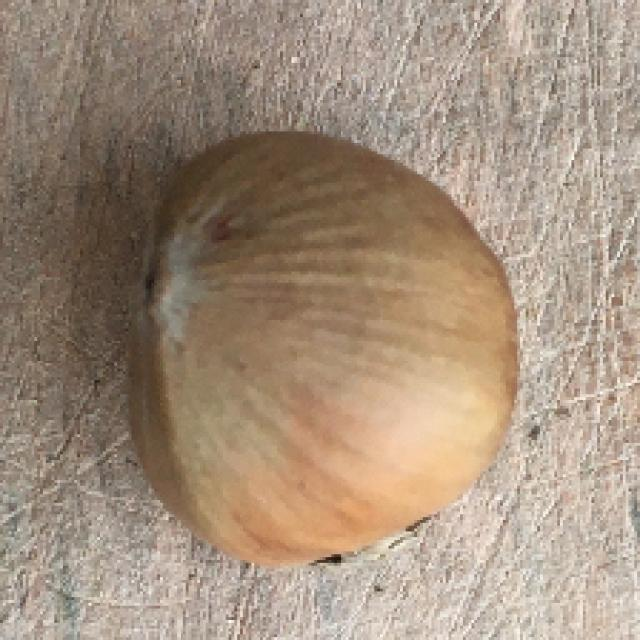damagedHazelnut: (134, 113, 529, 573)
